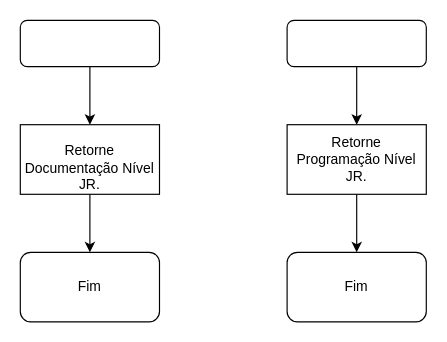
This 447x342 diagram has some shape labels left out. The centre of each missing label's shape, as x and y in pixels:
"Documentar" belongs at point (89, 43).
"Programar" belongs at point (356, 43).
